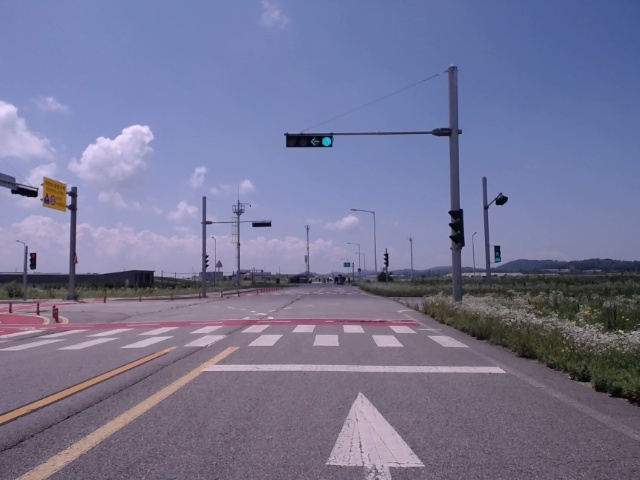all_green_4: (284, 134, 335, 146)
